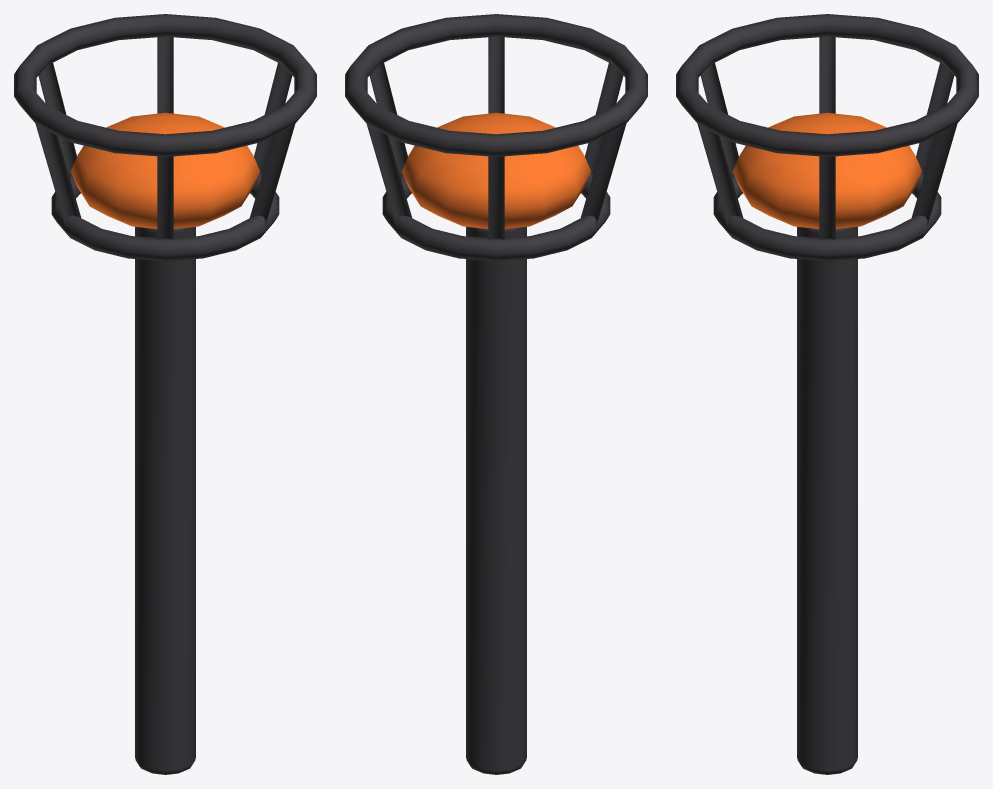
Rendered from SkateTorch.obj.
3 views of the same model, side by side, from view 1: azimuth 30°, elevation 25°; view 2: azimuth 150°, elevation 25°; view 3: azimuth 270°, elevation 25° (orthographic).
Parts seen in each view (by area): view 1: Iron, Coals; view 2: Iron, Coals; view 3: Iron, Coals.
Part boxes in pixels (<box>): Iron: <box>14,14,316,774</box>; Coals: <box>70,112,260,229</box>; Iron: <box>345,14,647,774</box>; Coals: <box>401,112,591,229</box>; Iron: <box>676,14,978,774</box>; Coals: <box>732,112,922,229</box>.
Size of the model in its own units: 1.62 by 4 by 1.6.
